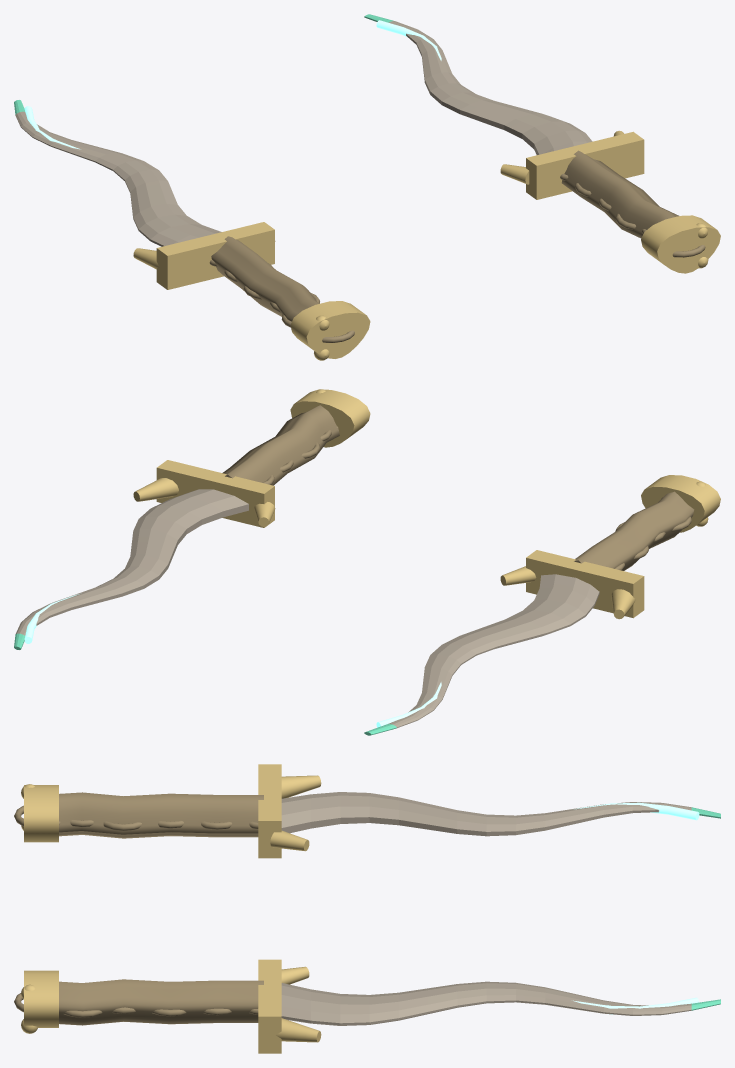
File: art_viper_kris.fbx
3 views of the same model, one above another, from view 1: azimuth 30°, elevation 25°; view 2: azimuth 150°, elevation 25°; view 3: azimuth 270°, elevation 25° (orthographic). The views are drawn at different scales.
Parts seen in each view (by area): view 1: BladeL, Blade, Handle, CrossguardL, Crossguard, HandleL, PommelL, Pommel; view 2: Blade, BladeL, Handle, CrossguardL, HandleL, Crossguard, PommelL, Pommel; view 3: Blade, BladeL, HandleL, Handle, CrossguardL, Crossguard, Pommel, PommelL, RuneInlayL.
Part boxes in pixels (left/top/right/bottom): BladeL: left=15, top=111, right=221, bottom=246; Blade: left=389, top=21, right=592, bottom=154; Handle: left=560, top=150, right=705, bottom=257; CrossguardL: left=133, top=222, right=275, bottom=289; Crossguard: left=500, top=130, right=644, bottom=199; HandleL: left=209, top=236, right=354, bottom=342; PommelL: left=290, top=301, right=370, bottom=360; Pommel: left=641, top=215, right=720, bottom=273; Blade: left=16, top=489, right=248, bottom=635; BladeL: left=388, top=574, right=599, bottom=728; Handle: left=222, top=405, right=339, bottom=485; CrossguardL: left=500, top=550, right=644, bottom=619; HandleL: left=574, top=491, right=694, bottom=570; Crossguard: left=133, top=460, right=275, bottom=527; PommelL: left=641, top=475, right=720, bottom=532; Pommel: left=290, top=389, right=370, bottom=447; Blade: left=281, top=981, right=691, bottom=1025; BladeL: left=281, top=792, right=691, bottom=836; HandleL: left=14, top=792, right=263, bottom=838; Handle: left=14, top=979, right=263, bottom=1025; CrossguardL: left=258, top=764, right=321, bottom=858; Crossguard: left=258, top=959, right=321, bottom=1053; Pommel: left=21, top=970, right=58, bottom=1033; PommelL: left=21, top=784, right=58, bottom=842; RuneInlayL: left=574, top=802, right=699, bottom=820.
Size of the model in its own units: 210 by 18 by 241.
